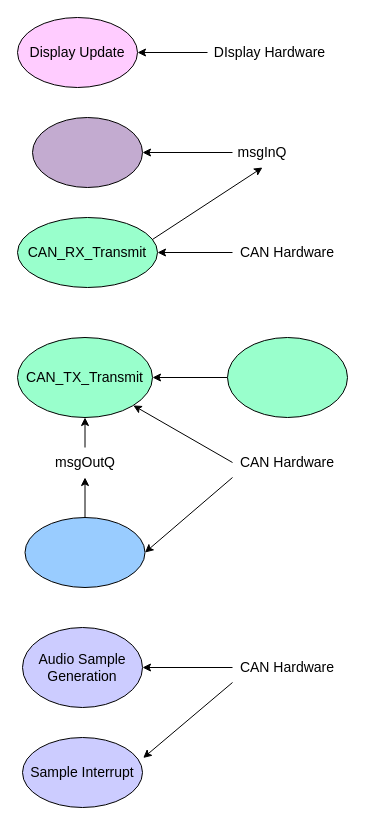
Image size: 365x825. Some labels were removed from this diagram. Each missing label, with the centre of its shape:
"CAN Receive and Decode" belongs at [87,152].
"CAN_Transmit" belongs at [287,377].
"Scan Keys" belongs at [84,552].
